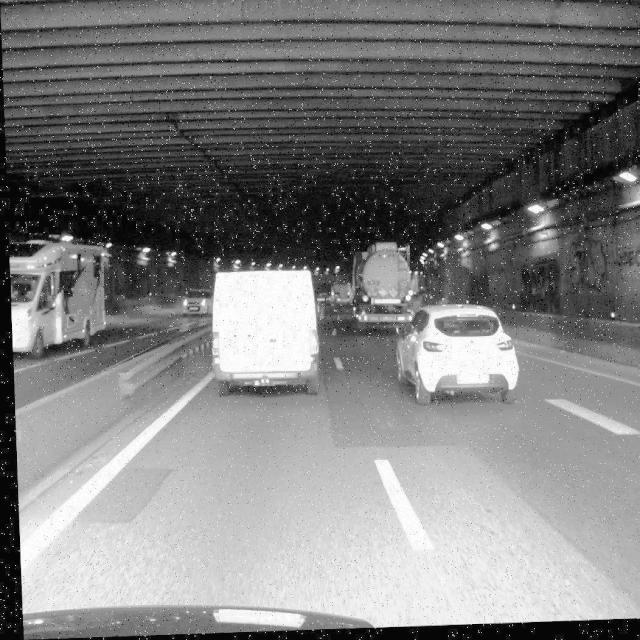Car: (211, 270, 319, 394), (396, 304, 522, 403)
Truck: (346, 244, 414, 332)
